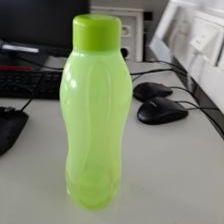bottle: (58, 12, 133, 211)
